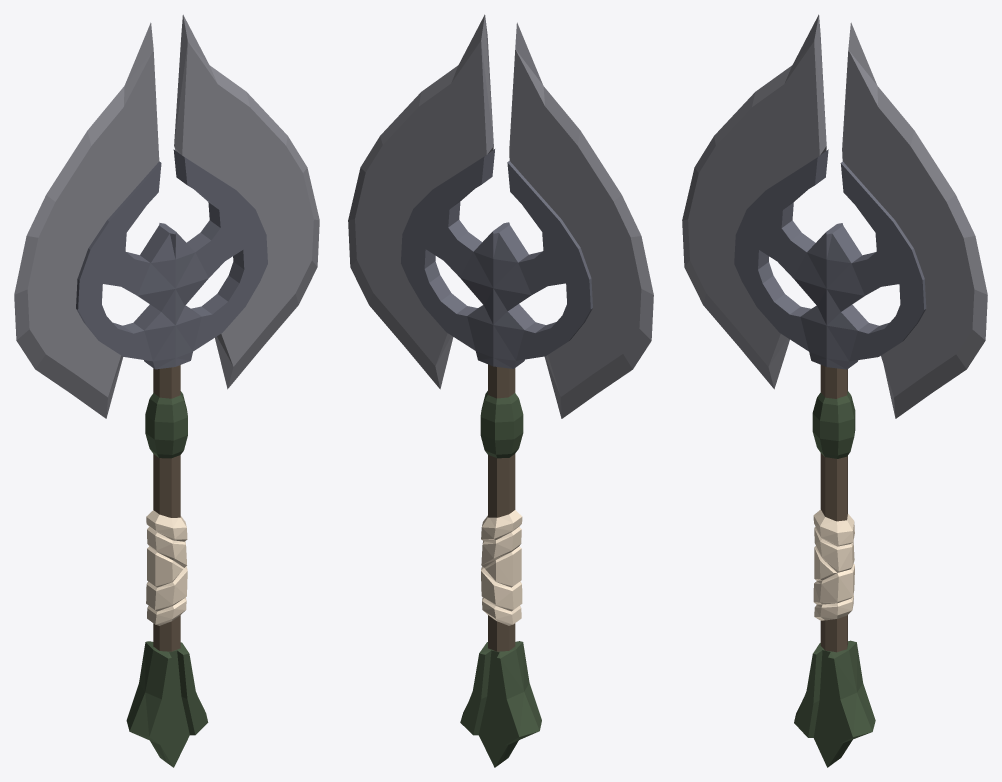
Rendered from _DOUBLE_AXE_2.fbx.
3 renders of one model, left to right at view 1: azimuth 30°, elevation 25°; view 2: azimuth 150°, elevation 25°; view 3: azimuth 330°, elevation 25°, orthographic.
Visible parts, largest first — view 1: DOUBLE_AXE_2; view 2: DOUBLE_AXE_2; view 3: DOUBLE_AXE_2.
Part boxes in pixels (left/top/right/bottom): DOUBLE_AXE_2: left=14, top=14, right=319, bottom=767; DOUBLE_AXE_2: left=348, top=14, right=653, bottom=767; DOUBLE_AXE_2: left=682, top=14, right=987, bottom=767.
Bounding box in the file's own units: 51.73 × 120 × 6.67.
